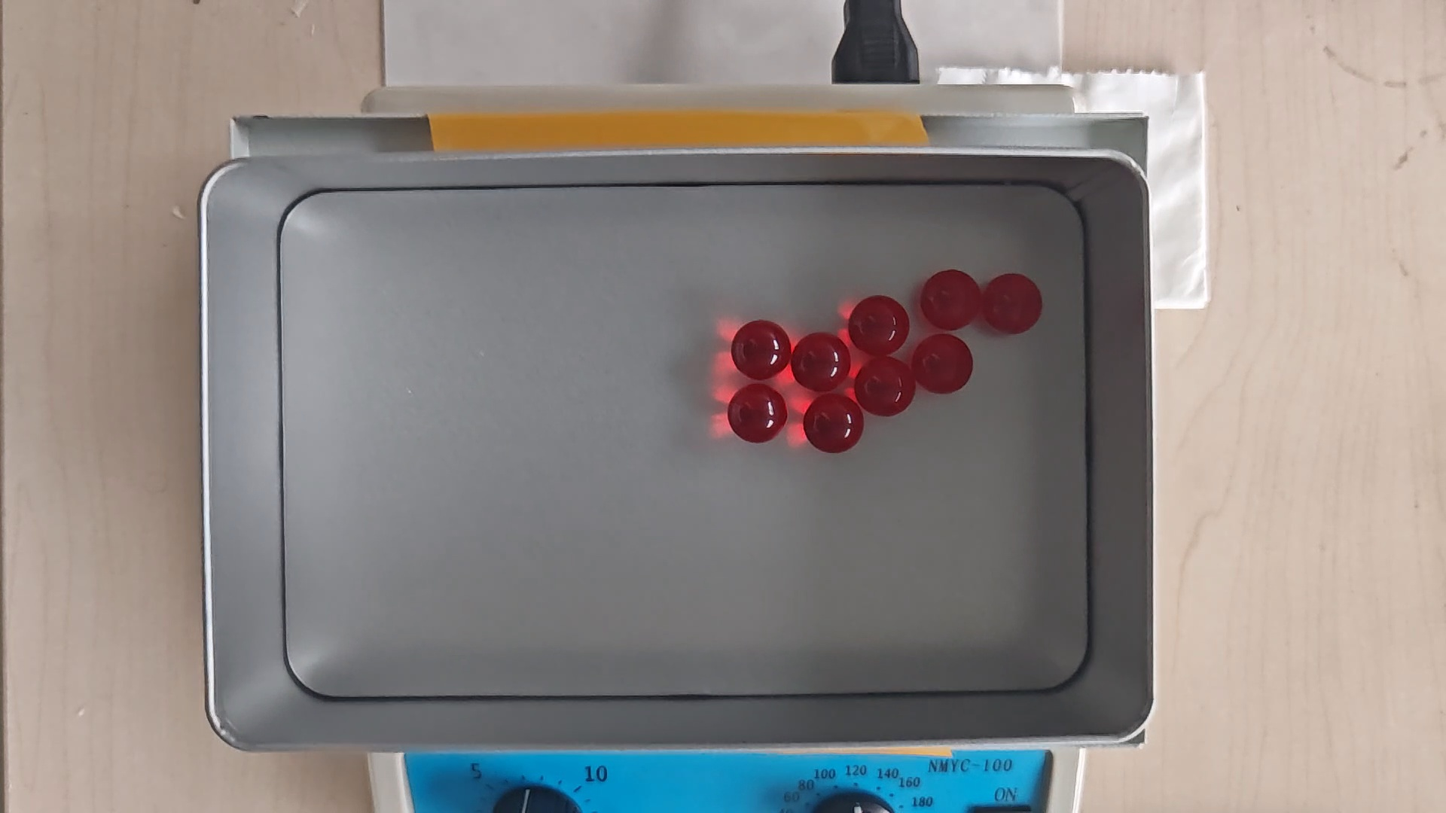ball: (982, 272, 1042, 336), (855, 358, 916, 418), (804, 393, 864, 454), (728, 383, 788, 444), (850, 294, 909, 356), (731, 320, 791, 380), (914, 334, 974, 394), (921, 269, 980, 330), (792, 332, 850, 392)
container: (275, 179, 1091, 695)
